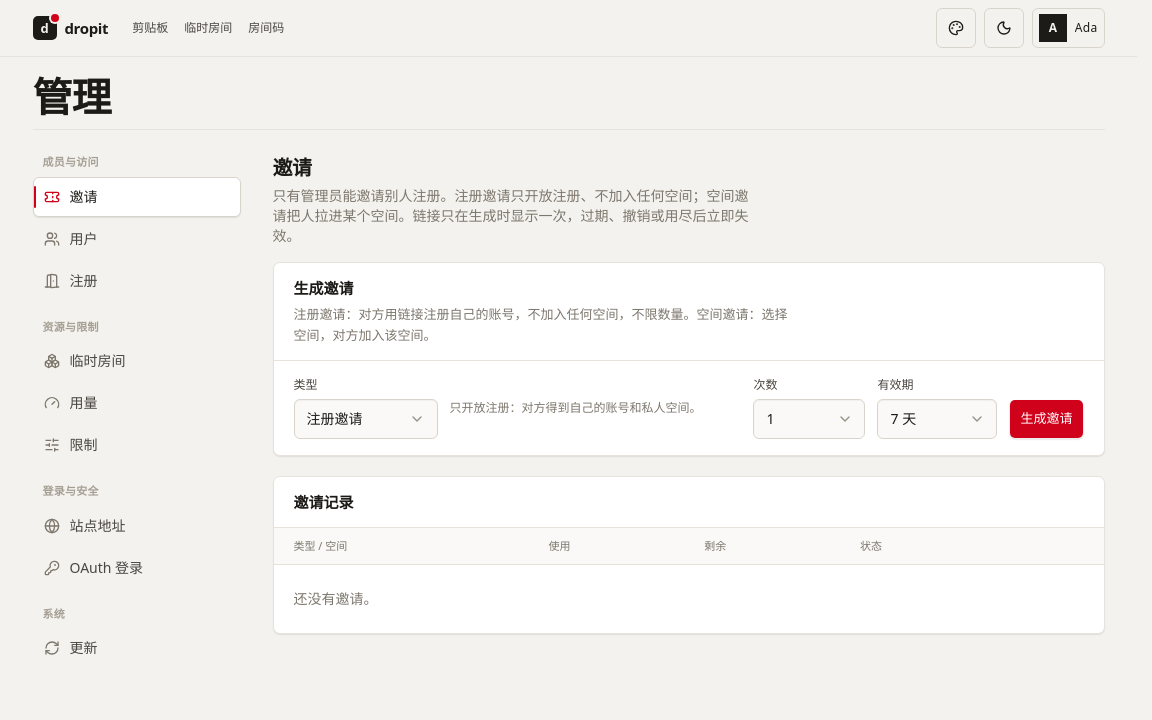
AC-O7/O8 admin limits › edits one limit, shows the audit, and restores the default
Click the tab "限制" at point(136, 445), box [32,425,240,465]
(page scrolled)
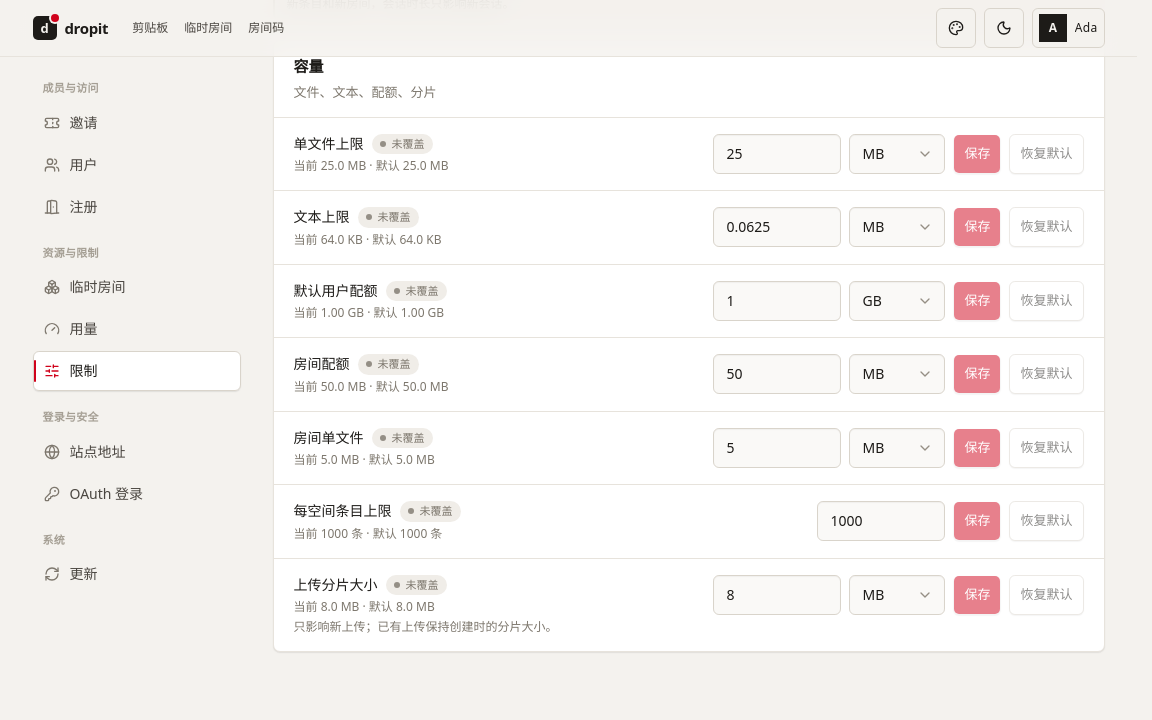
Check: the text "未覆盖" is shown, box [400,501,460,522]
Check: the text "当前 1000 条" is shown, box [294,525,363,542]
Check: the text "默认 1000 条" is shown, box [373,525,442,542]
Replace the text in the field labelled "每空间条目上限" with "12" at point(882, 521), box [818,501,946,541]
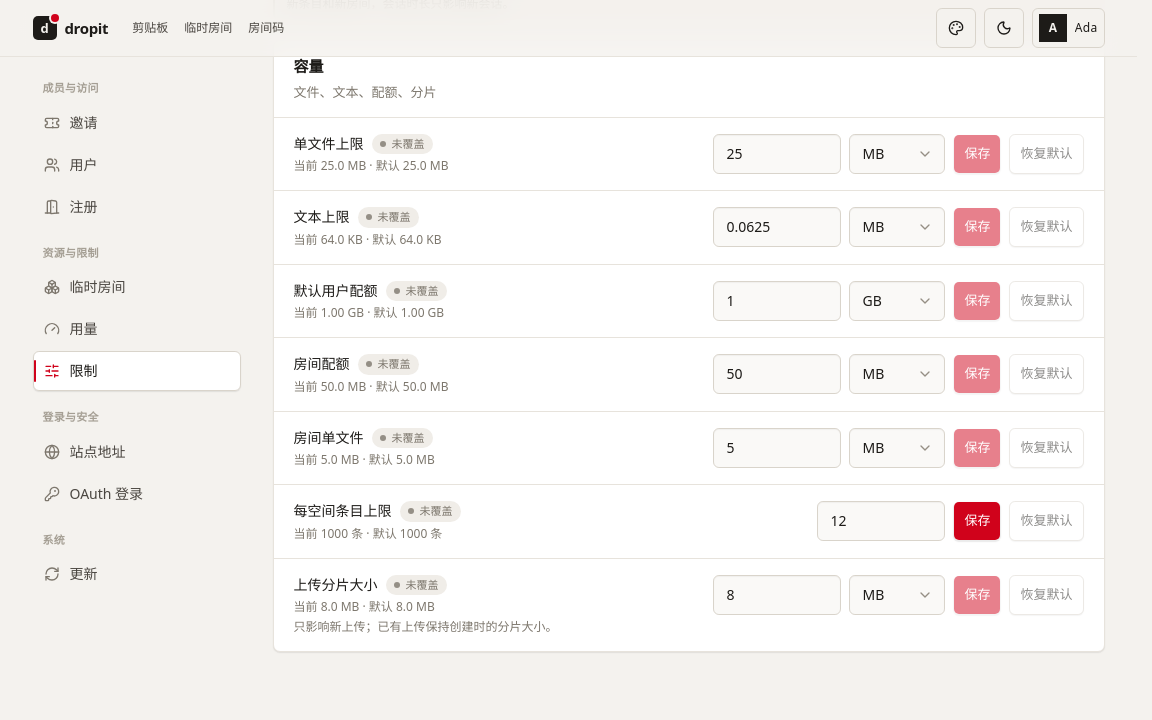
Click the button "保存" in the row of "每空间条目上限" at point(978, 521), box [954,501,1002,541]
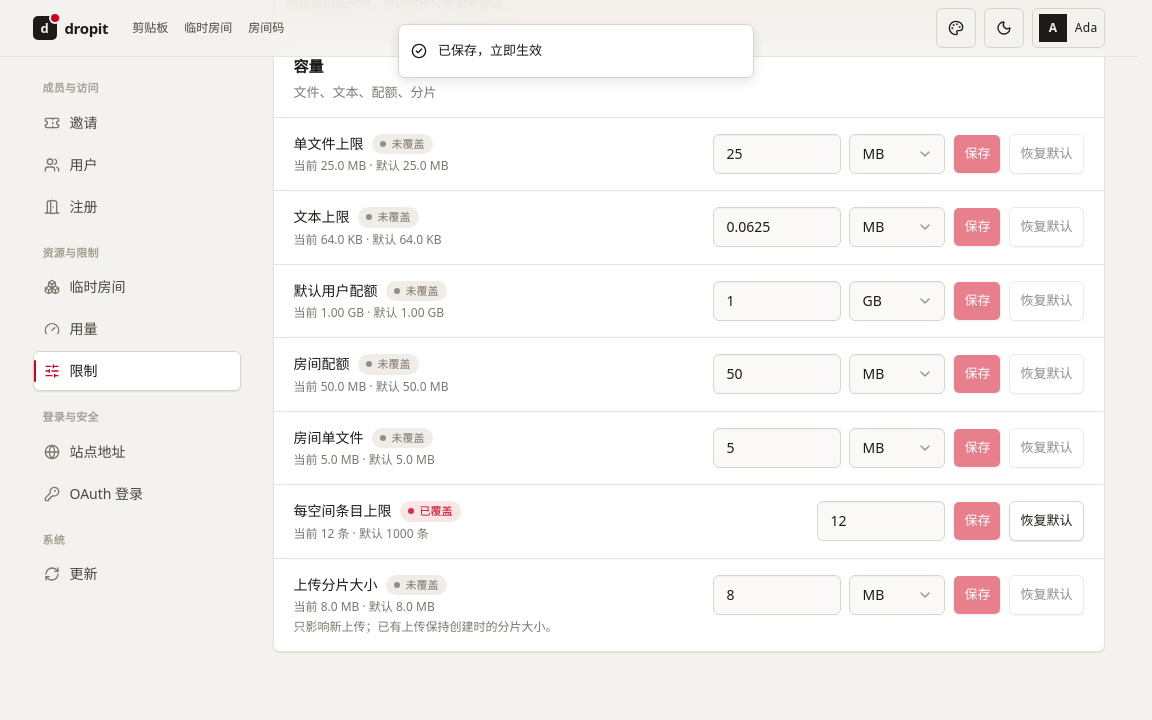
Check: the text "已覆盖" is shown, box [400,501,460,522]
Check: the text "当前 12 条" is shown, box [294,525,350,542]
Click the button "恢复默认" in the row of "已覆盖" at point(1046, 521), box [1010,501,1084,541]
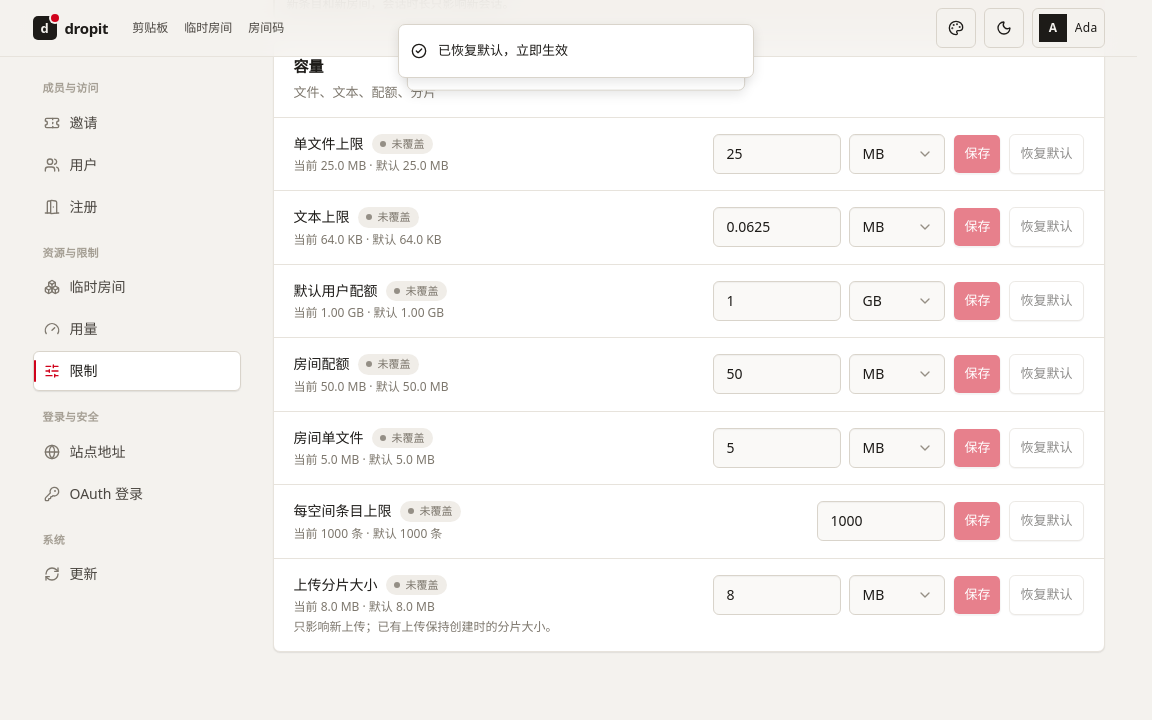
Check: the text "未覆盖" is shown, box [400,501,460,522]
